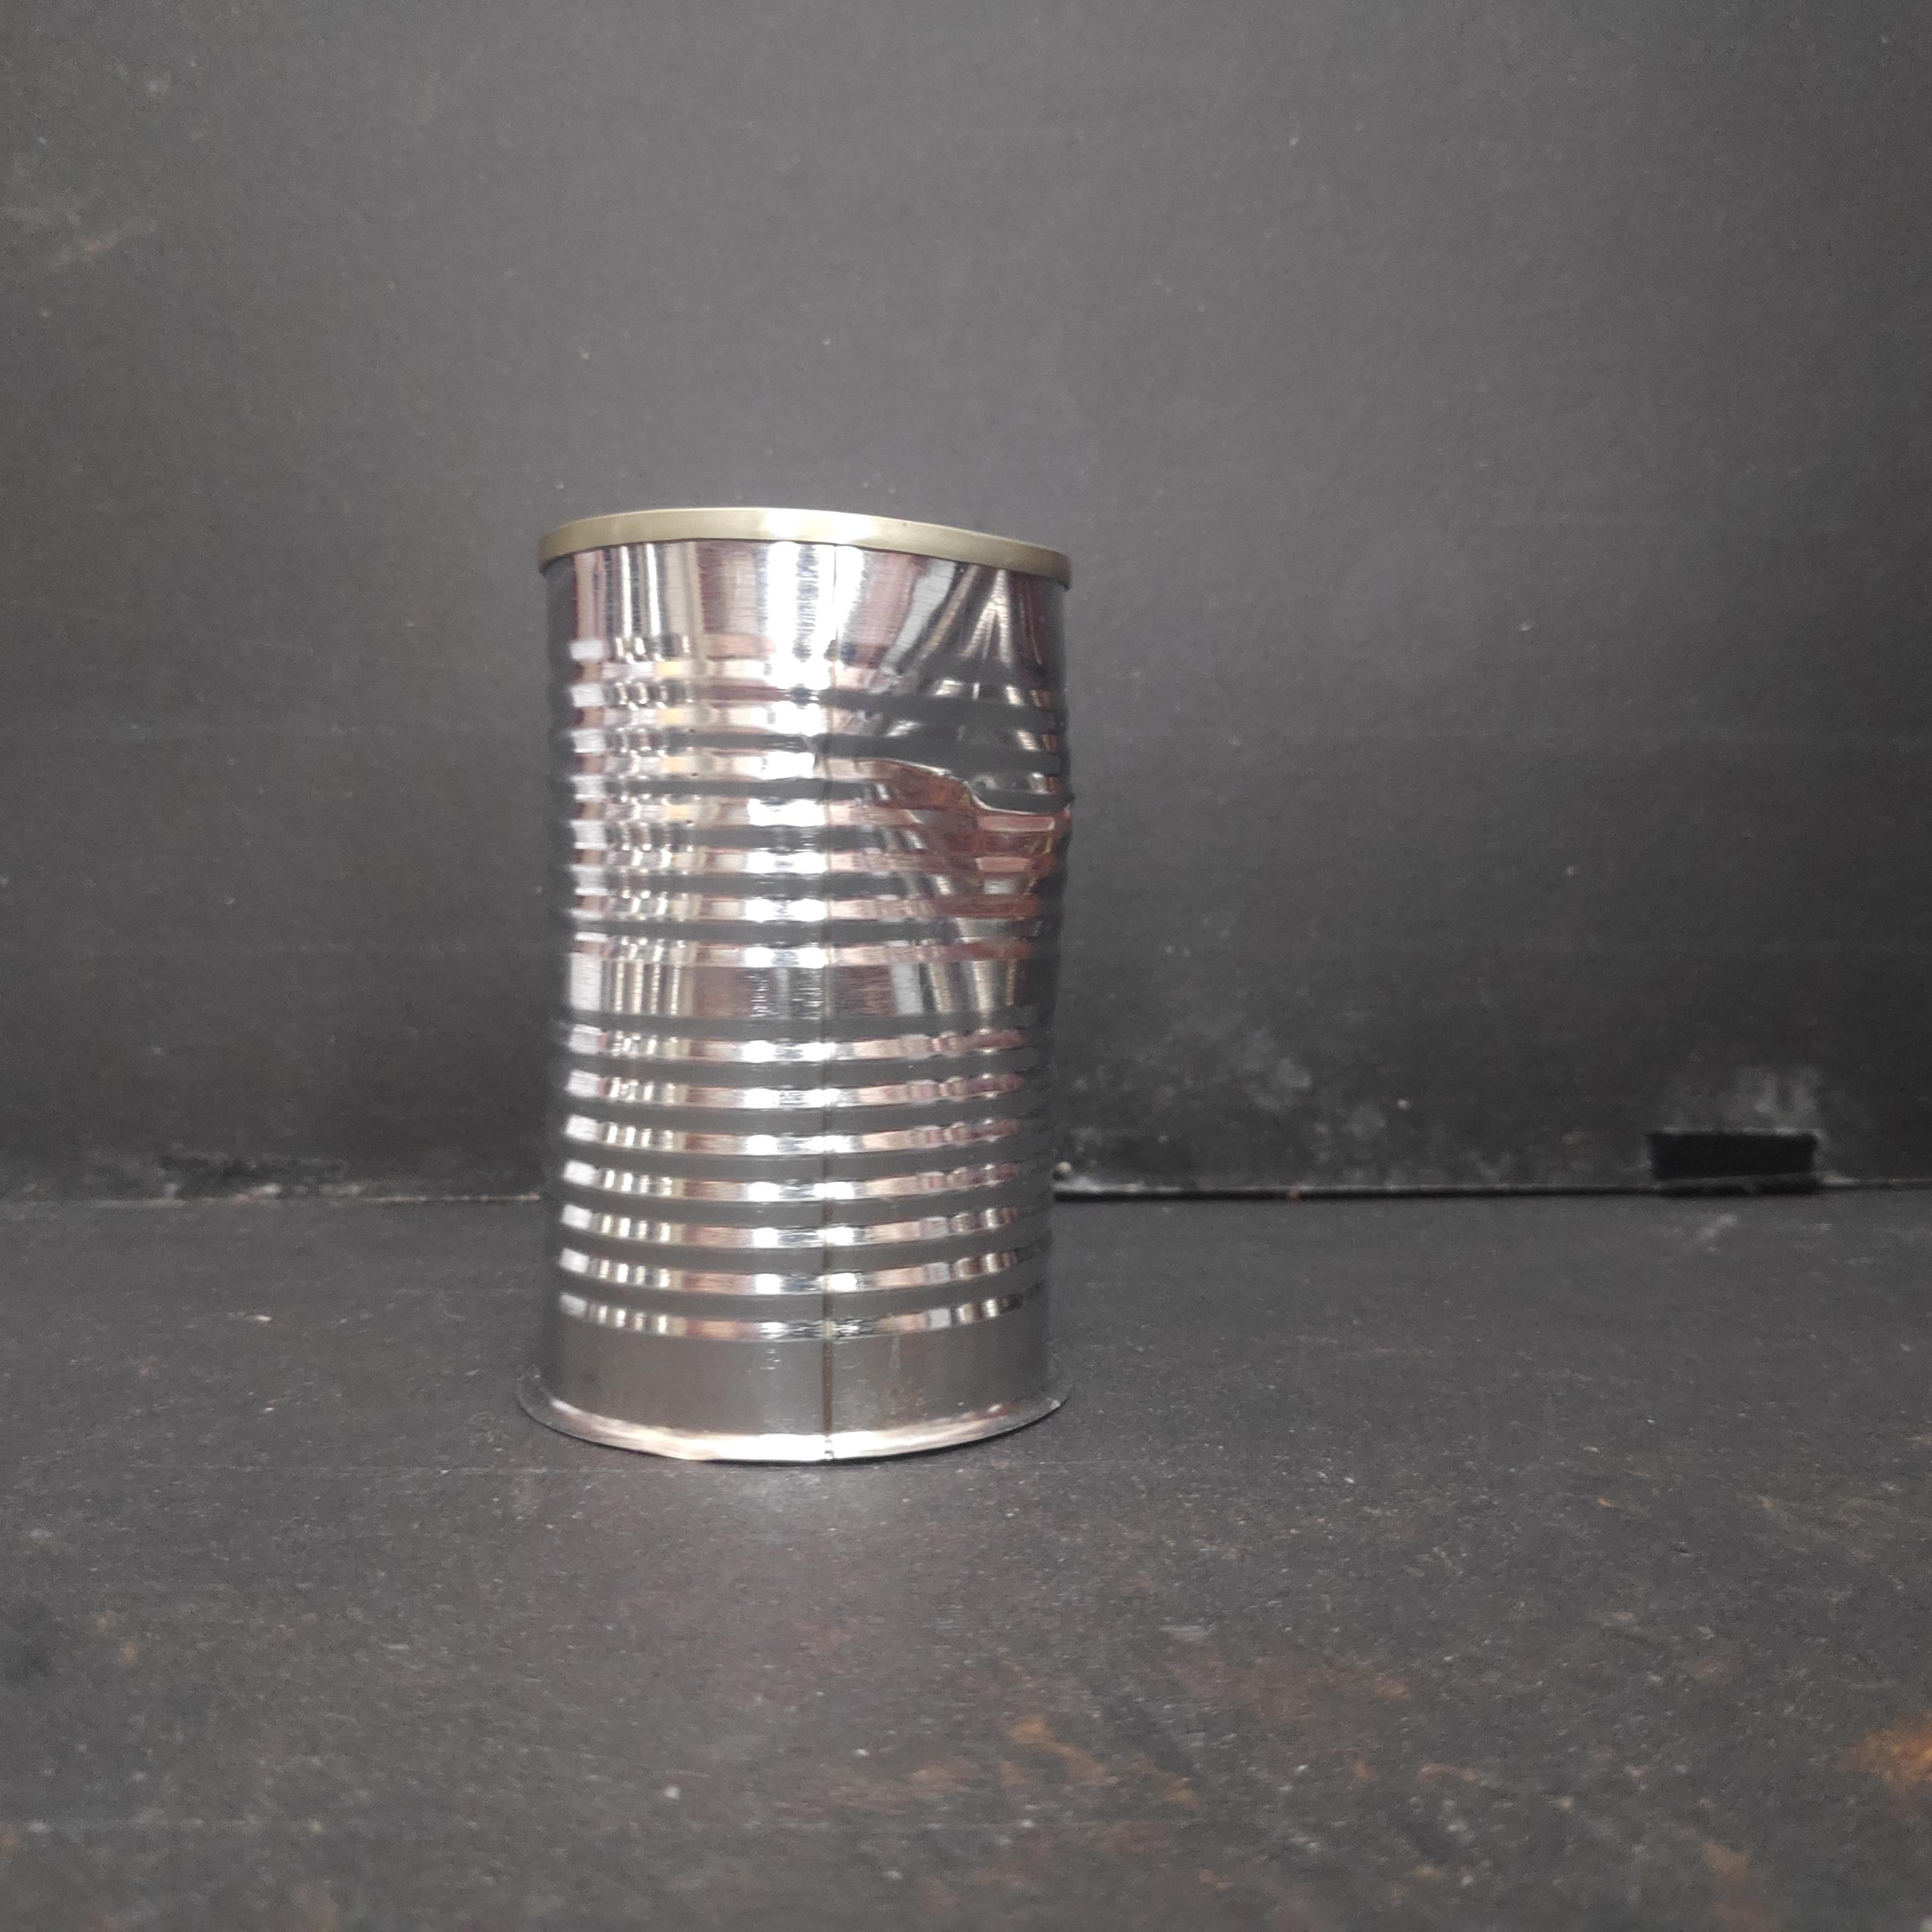Minor Defect: (518, 492, 1085, 1474)
